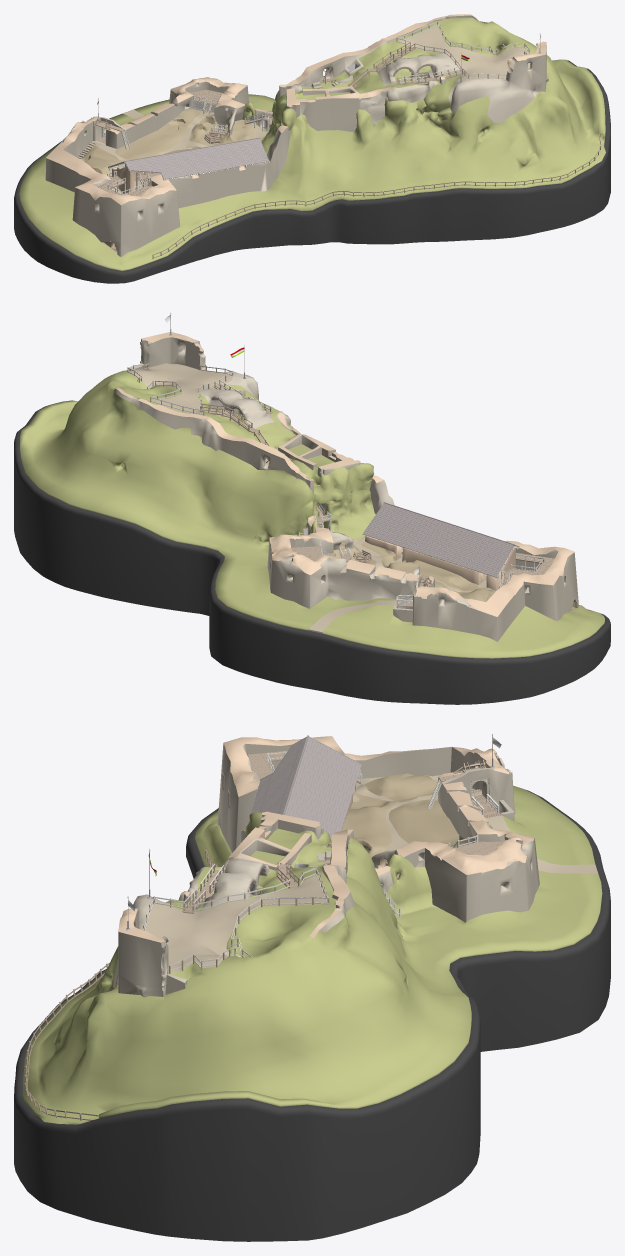
The model's file is Siroki_var.fbx.
The picture shows the model from 3 angles, top to bottom: view 1: azimuth 30°, elevation 25°; view 2: azimuth 150°, elevation 25°; view 3: azimuth 270°, elevation 25°; orthographic projection. The views are drawn at different scales.
Parts seen in each view (by area): view 1: SirokVara222; view 2: SirokVara222; view 3: SirokVara222.
Boxes of the visible parts, x1,y1,x2,y2 form: SirokVara222: [14, 14, 610, 283]; SirokVara222: [14, 313, 610, 704]; SirokVara222: [14, 734, 610, 1241].
Size of the model in its own units: 1726 by 523 by 1020.
